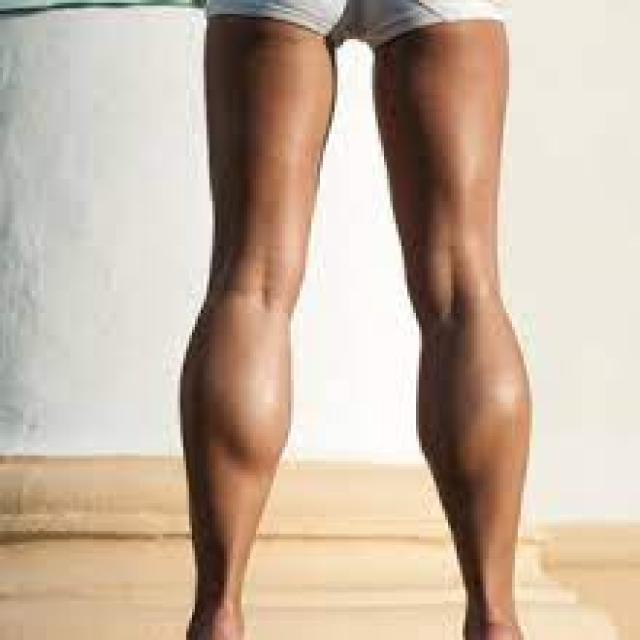Normal: (154, 176, 572, 588)
